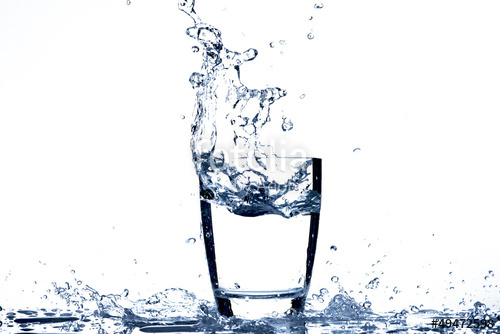glass of water: (182, 73, 337, 325)
